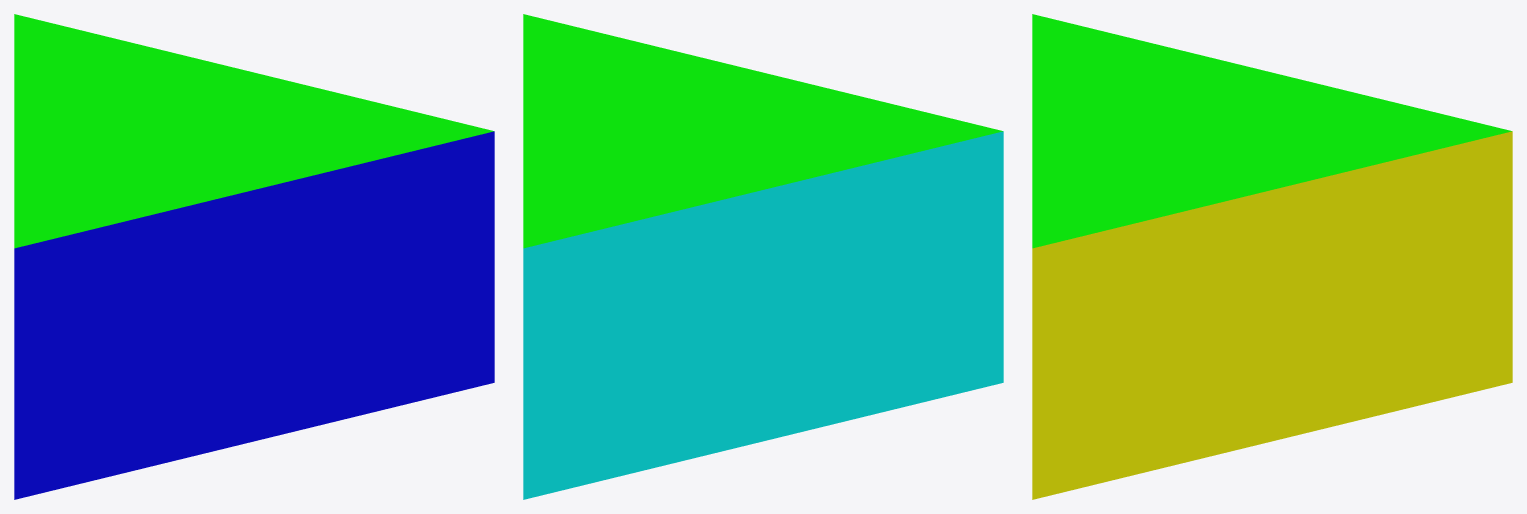
Rendered from congurent-triangle.glb.
The picture shows the model from 3 angles, left to right: view 1: azimuth 30°, elevation 25°; view 2: azimuth 150°, elevation 25°; view 3: azimuth 270°, elevation 25°; orthographic projection.
Parts seen in each view (by area): view 1: TriPrism; view 2: TriPrism; view 3: TriPrism.
Part boxes in pixels (box(x1,y1,x2,y2)): TriPrism: box(14, 14, 494, 499); TriPrism: box(523, 14, 1003, 499); TriPrism: box(1032, 14, 1512, 499).
Size of the model in its own units: 2 by 1 by 1.73.
